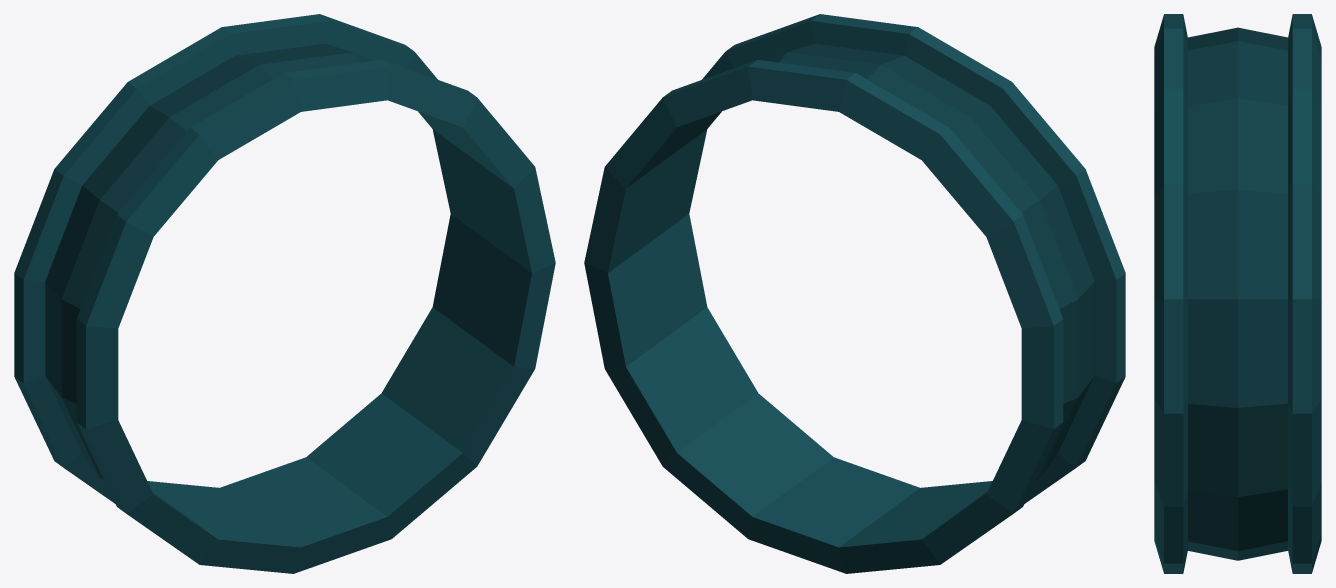
File: Ring7.glb
The picture shows the model from 3 angles, left to right: view 1: azimuth 30°, elevation 25°; view 2: azimuth 150°, elevation 25°; view 3: azimuth 270°, elevation 25°; orthographic projection. The views are drawn at different scales.
Visible parts, largest first — view 1: Ring7; view 2: Ring7; view 3: Ring7.
Boxes of the visible parts, x1,y1,x2,y2 form: Ring7: (14,14,555,573); Ring7: (584,14,1125,573); Ring7: (1154,14,1321,573).
Size of the model in its own units: 0.6442 by 0.6477 by 0.1936.
